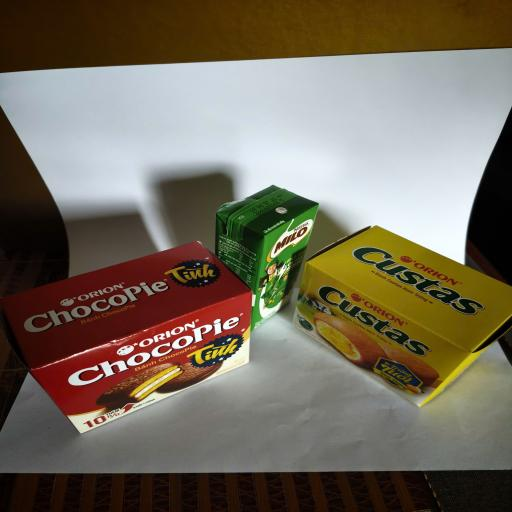chocopie: (0, 240, 253, 434)
custas: (292, 225, 512, 407)
milo: (214, 184, 319, 332)
